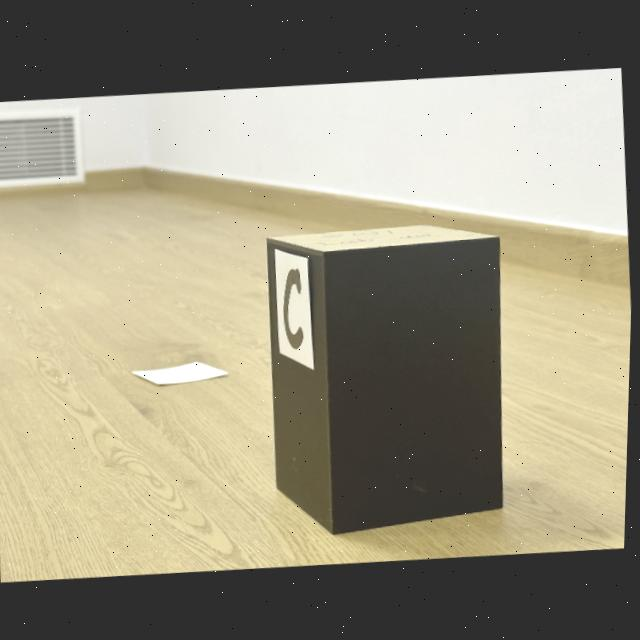C: (285, 267, 305, 347)
